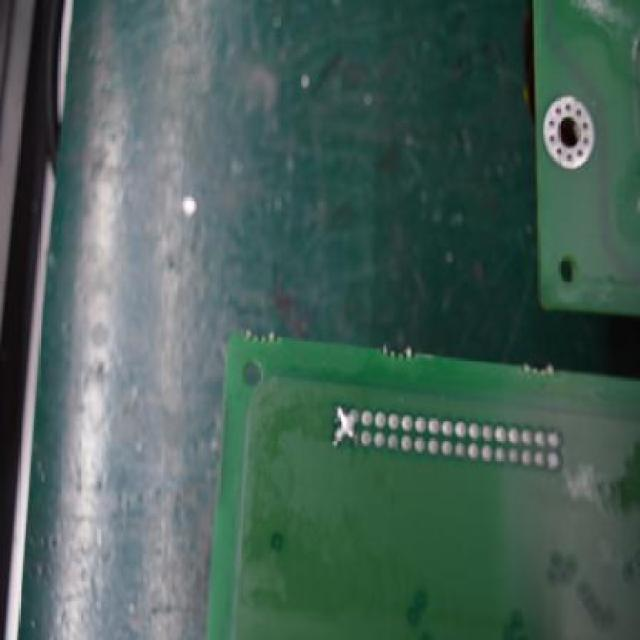Soldering shorted: (332, 398, 359, 446)
